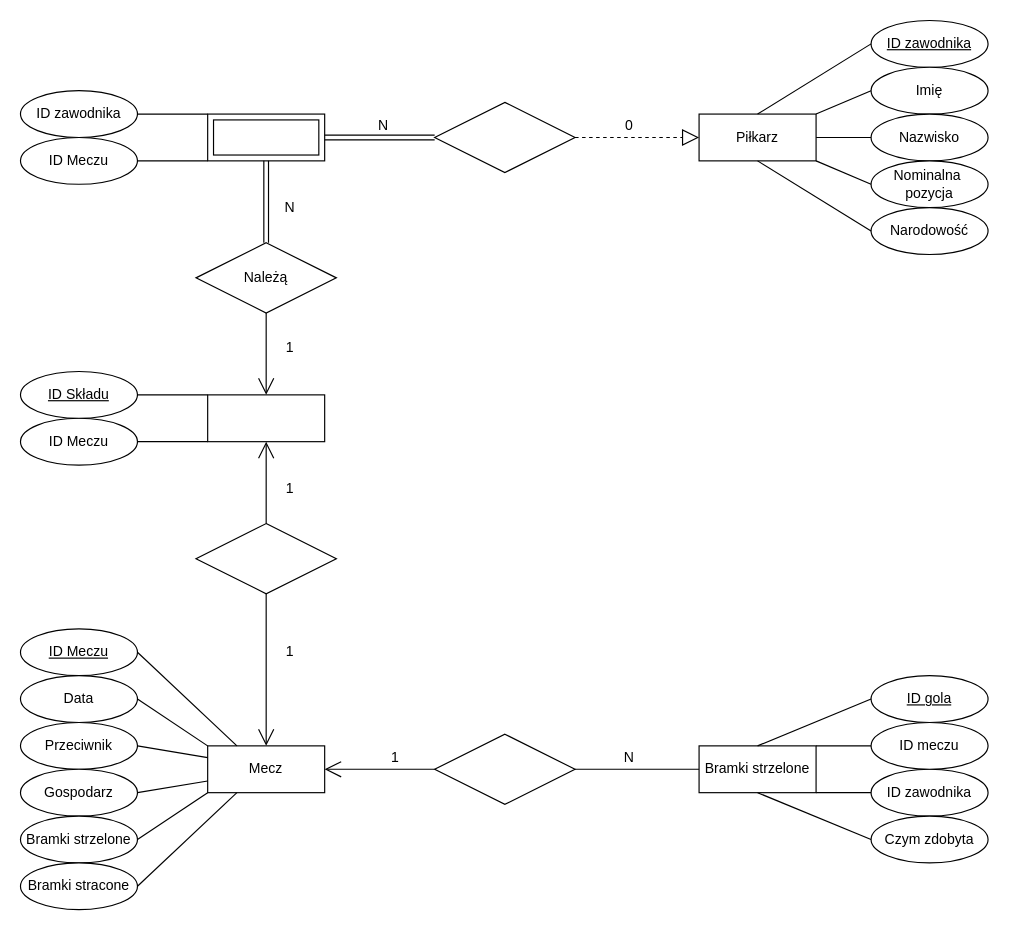
The diagram is 1009 pixels wide and 930 high, and some of its shapes have lost their labels. The shapes that lost their labels are listed below. From the top down, each one's centre as x and y in pixels, then its label:
At pixel 266 137: "Piłkarze jadący na mecz".
At pixel 504 137: "Jedzie".
At pixel 266 418: "Skład".
At pixel 265 558: "Gra".
At pixel 504 768: "Zostają zdobyte".
